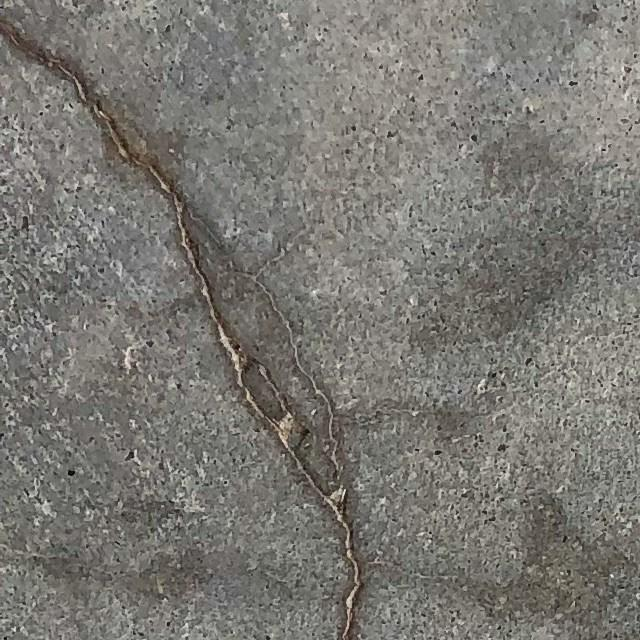branched cracks: (0, 20, 361, 639)
